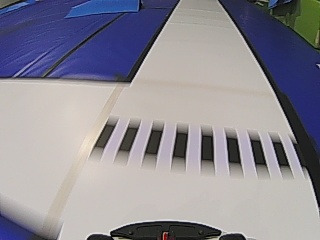CrossWalk: (91, 120, 293, 169)
